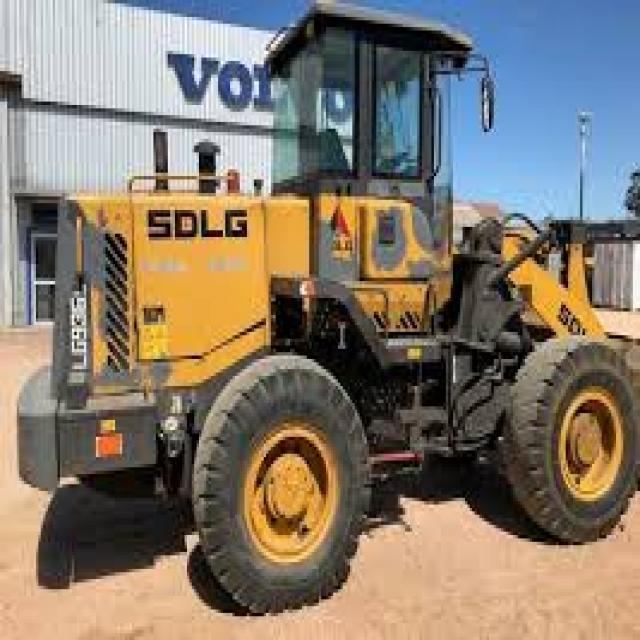buldozerpayloadergrader: (17, 0, 640, 617)
